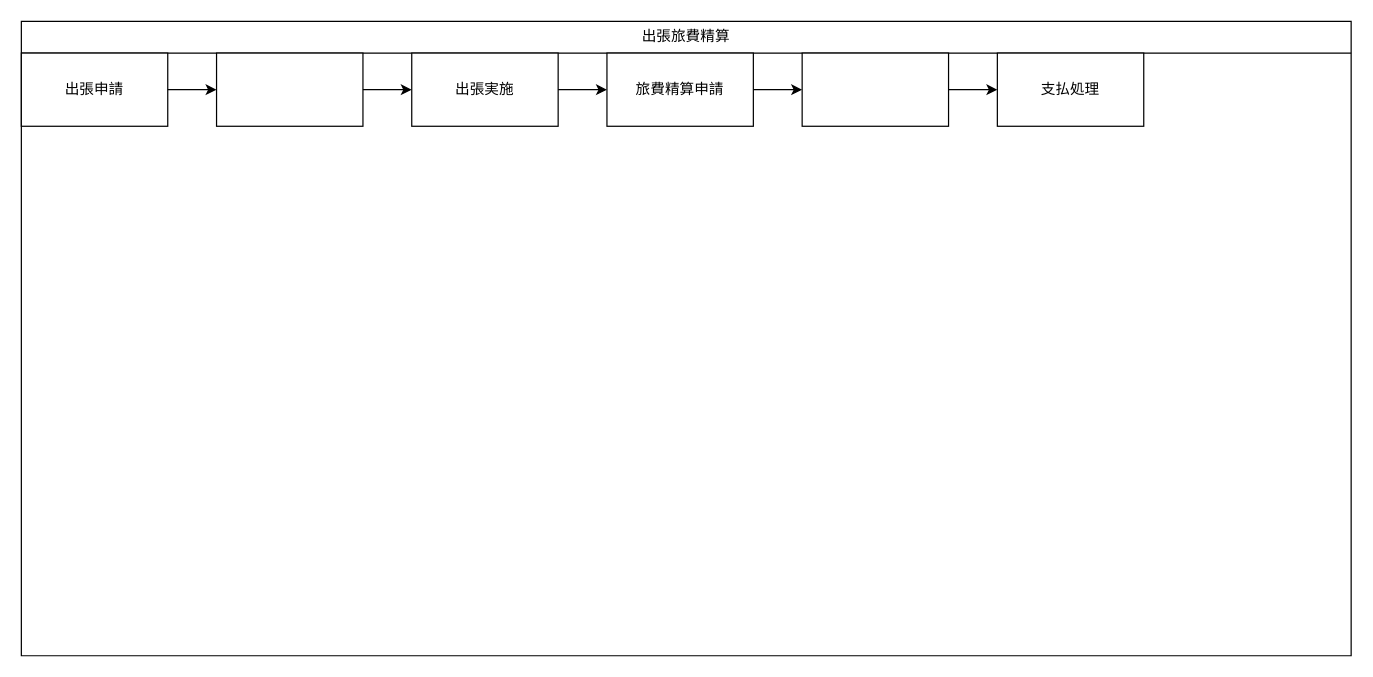
Image size: 1373x677. Some labels were removed from this diagram. The shapes that lost their labels are listed below. From the top down, each one's centre as x and y in pixels, then its label:
At [289,89]: "出張承認".
At [875,89]: "旅費精算承認".
